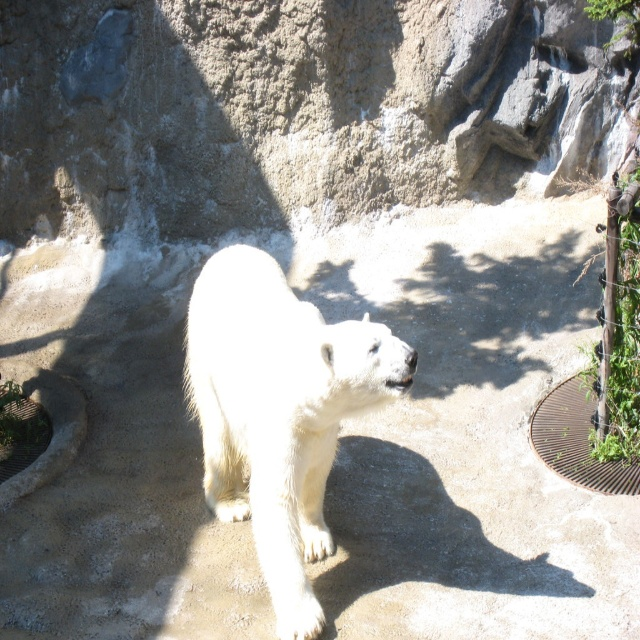Polar bear: (181, 242, 420, 639)
